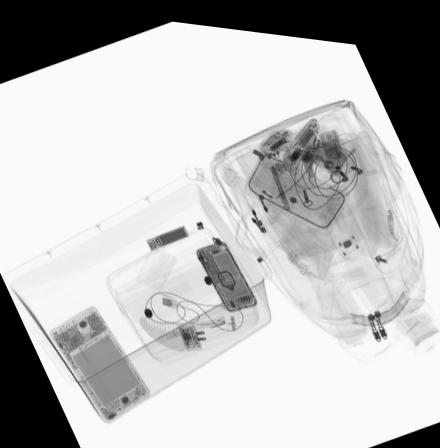Powerbank: (143, 218, 188, 247)
